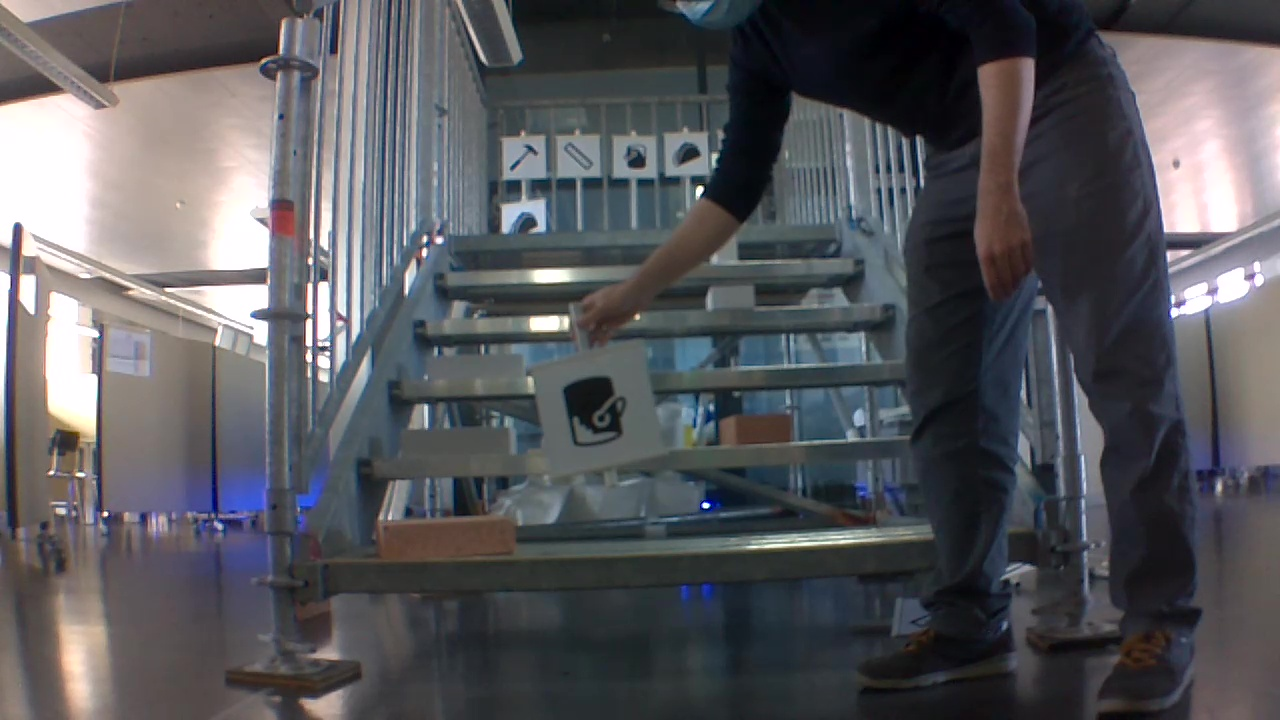brick: (379, 514, 513, 561), (404, 426, 513, 457), (429, 354, 524, 379), (721, 414, 791, 441), (706, 287, 752, 309)
bucket: (554, 372, 634, 448), (620, 139, 651, 173)
edge: (319, 534, 1046, 592)
hammer: (504, 138, 541, 176)
ruler: (559, 140, 595, 172)
taco: (668, 135, 702, 169), (505, 208, 540, 234)
